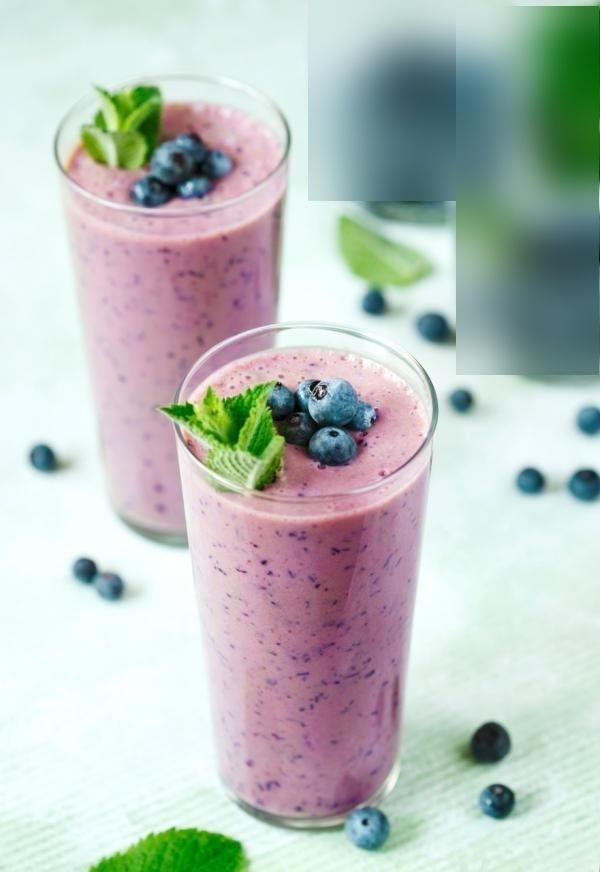glass-normal: (160, 322, 443, 831), (51, 69, 295, 543)
